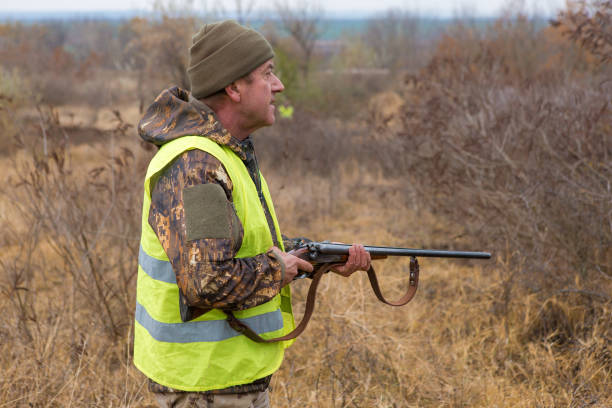gun: (178, 238, 493, 325)
